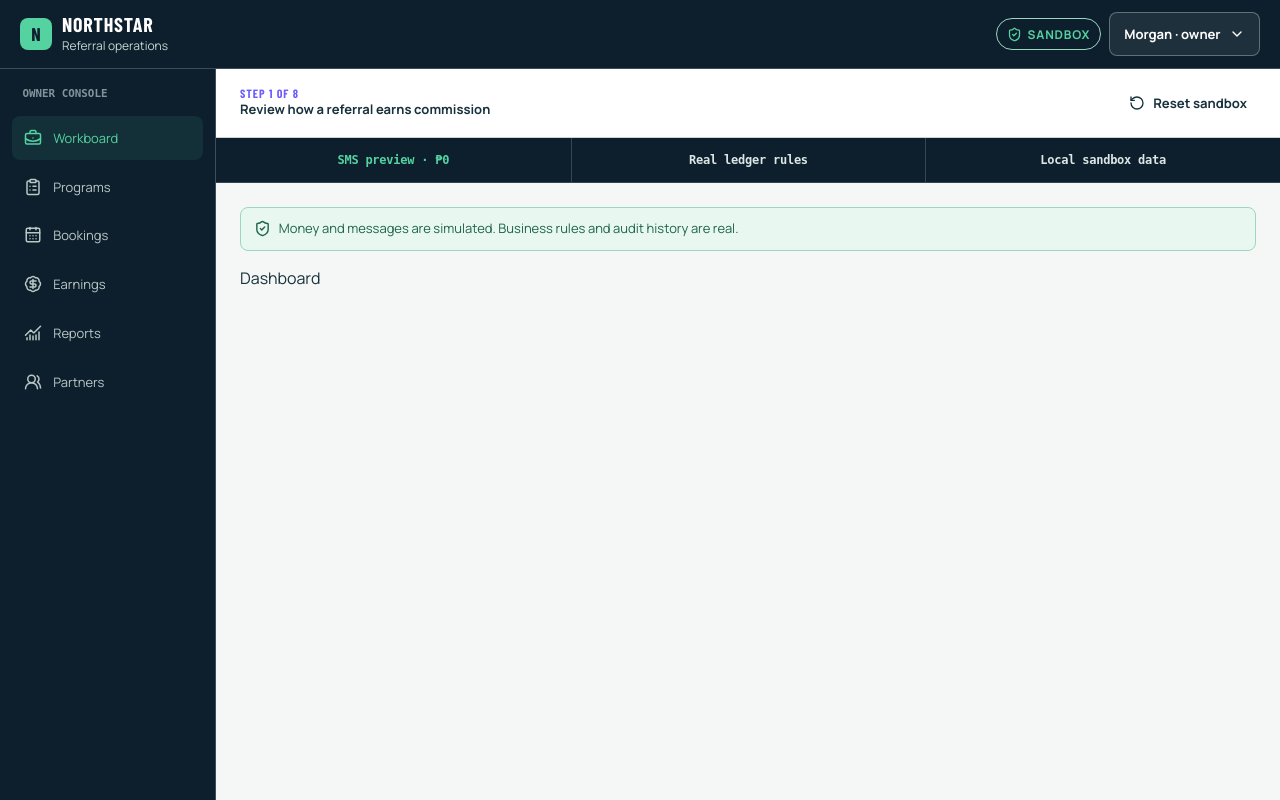
Test: SandboxShell › shows a visible alert when reset fails
What coordinates should you click on to do the following:
click the button "Reset sandbox"
I would click on:
 (1188, 103)
Its box is x1=1120 y1=81 x2=1256 y2=125.
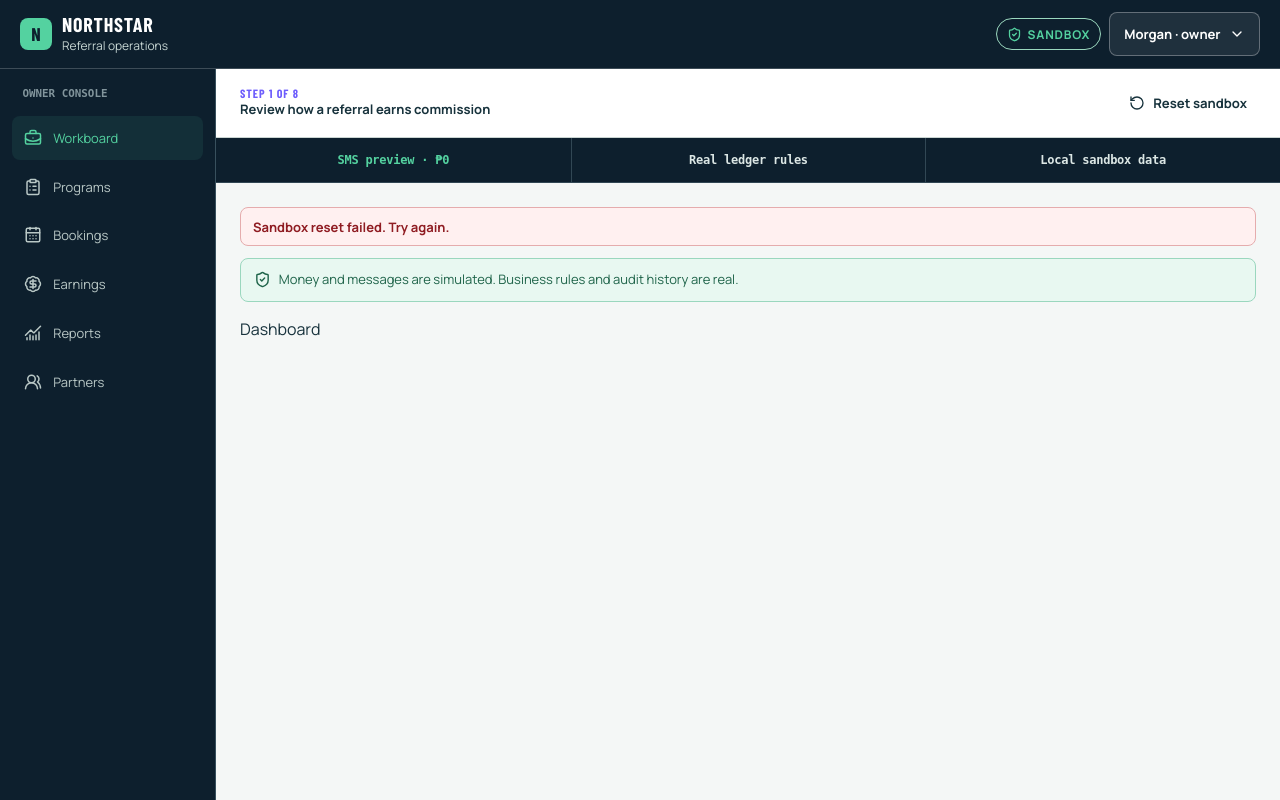
Now the message shows "Sandbox reset failed", box x1=253 y1=218 x2=449 y2=236
